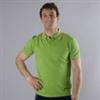abbigliamento_uomo: (20, 32, 81, 96)
